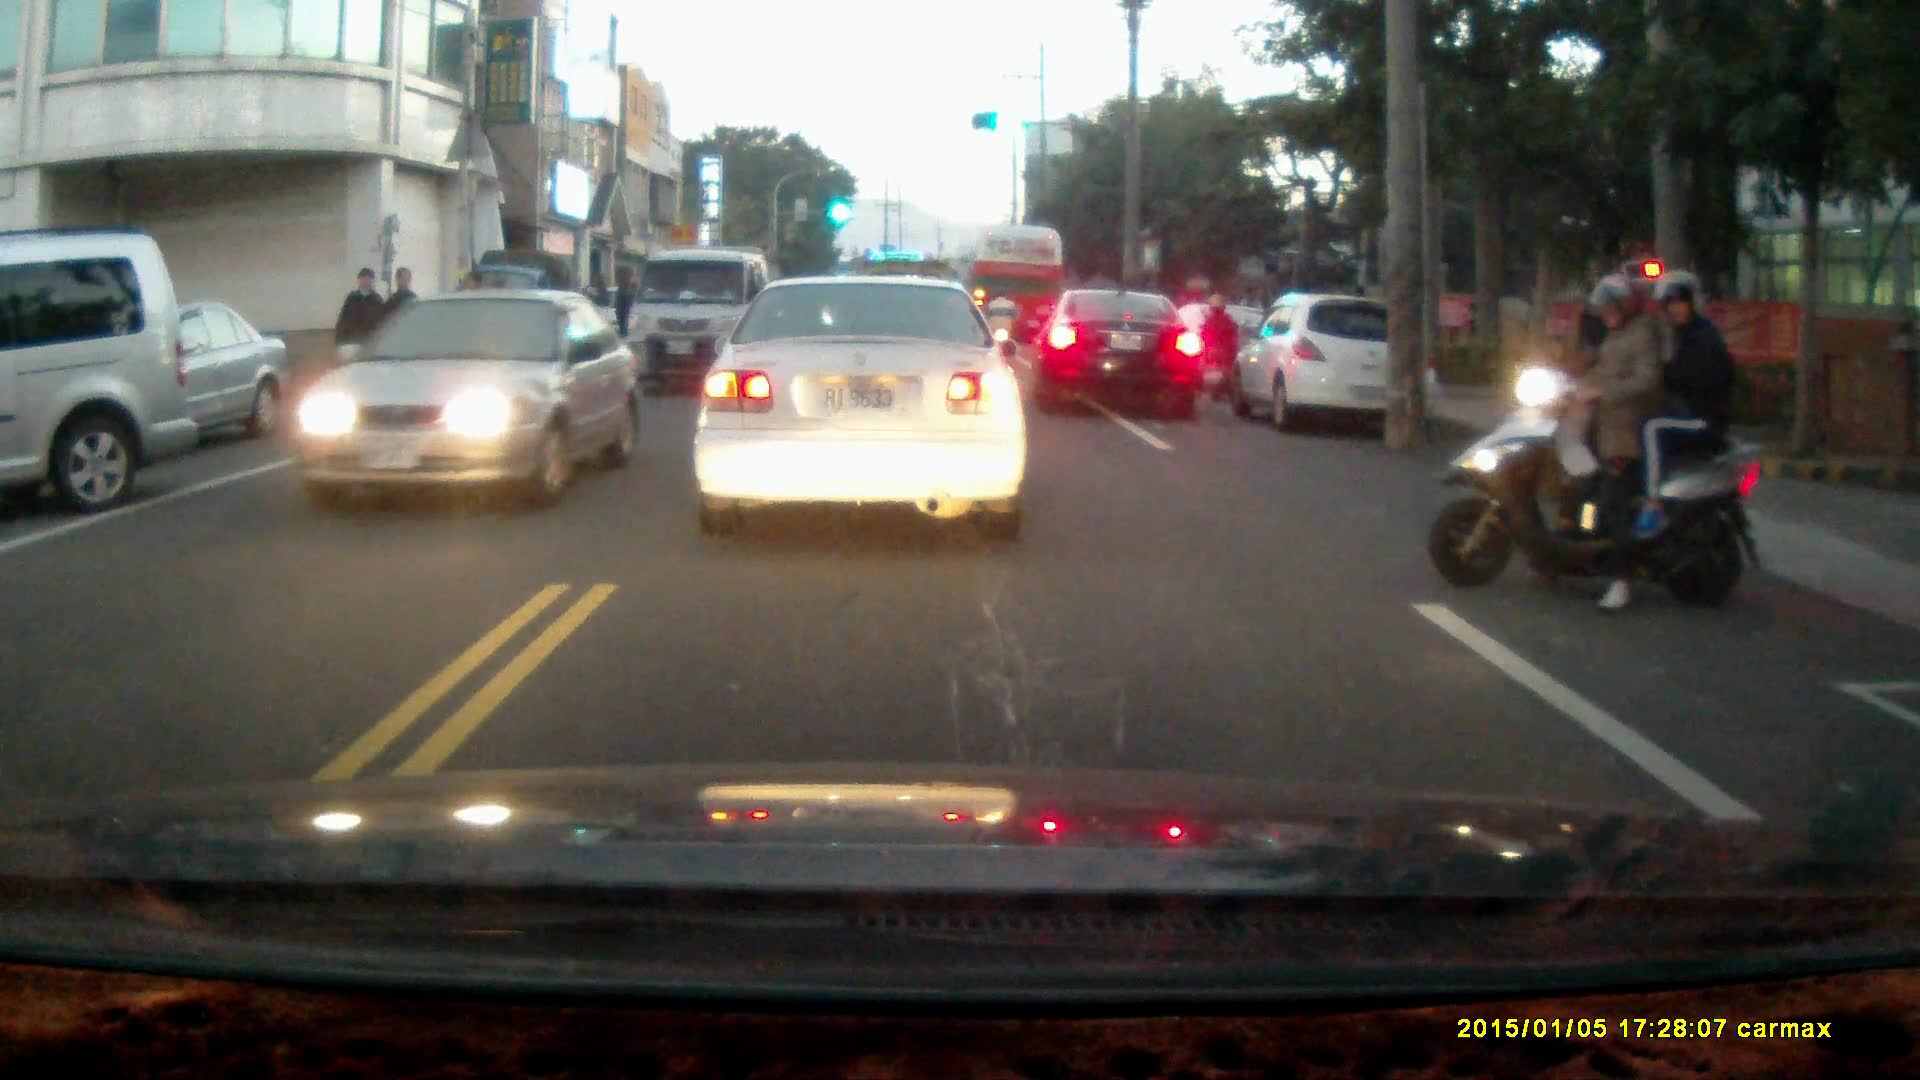pedestrian: (331, 265, 390, 426), (577, 268, 608, 366), (612, 271, 641, 355)
rider: (1431, 268, 1764, 618), (1194, 291, 1242, 402), (980, 287, 1019, 363)
vehicle: (693, 269, 1030, 541), (299, 287, 647, 513), (1, 224, 198, 510), (20, 295, 293, 452), (1241, 292, 1437, 437), (1031, 292, 1211, 421), (628, 246, 774, 393), (966, 224, 1071, 358)
